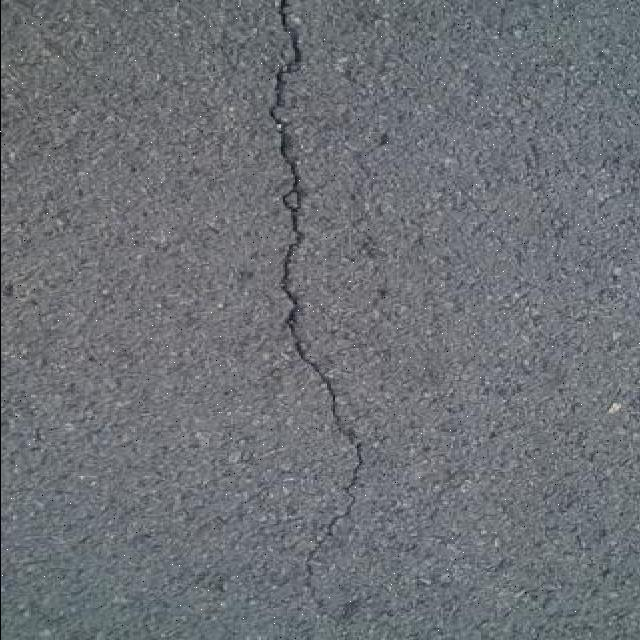crack: (267, 0, 364, 574)
